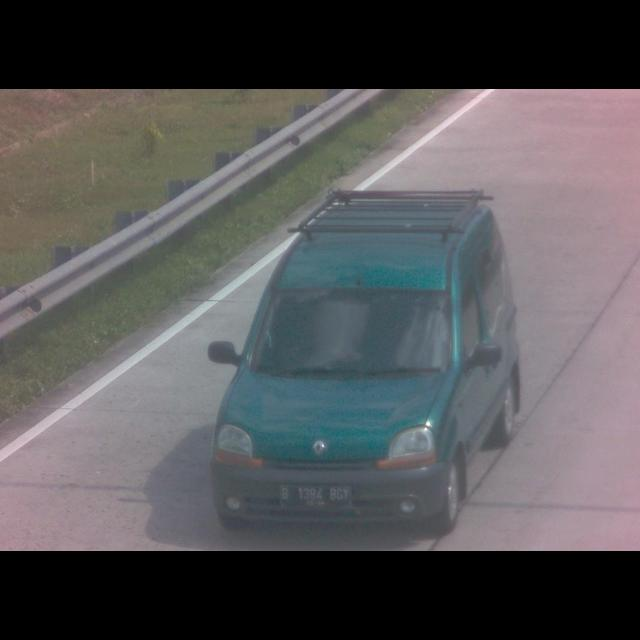plate: (278, 482, 350, 510)
